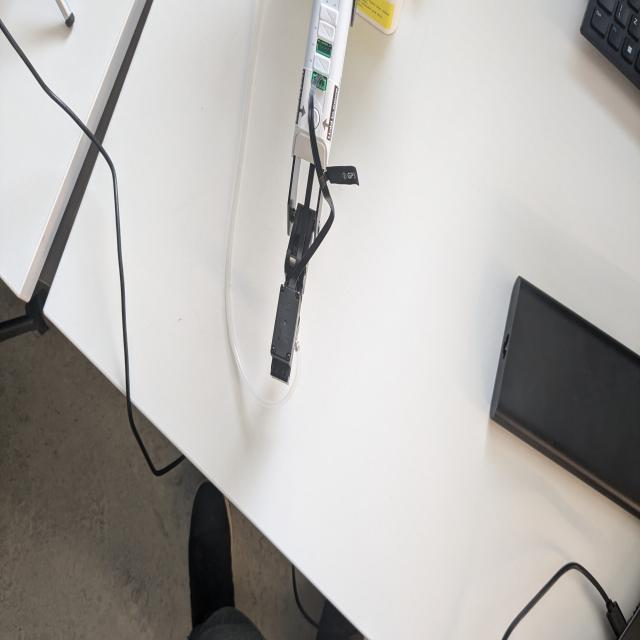Robot-end-effector-HF8z: (267, 278, 310, 387)
